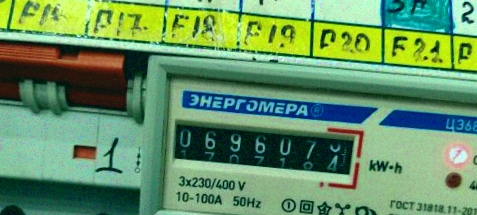0: (276, 133, 293, 157), (176, 126, 193, 148)
4: (325, 151, 340, 174)
6: (201, 127, 218, 150), (251, 133, 267, 154)
7: (301, 138, 318, 160)
9: (226, 130, 241, 152)
screen: (157, 107, 368, 187)
